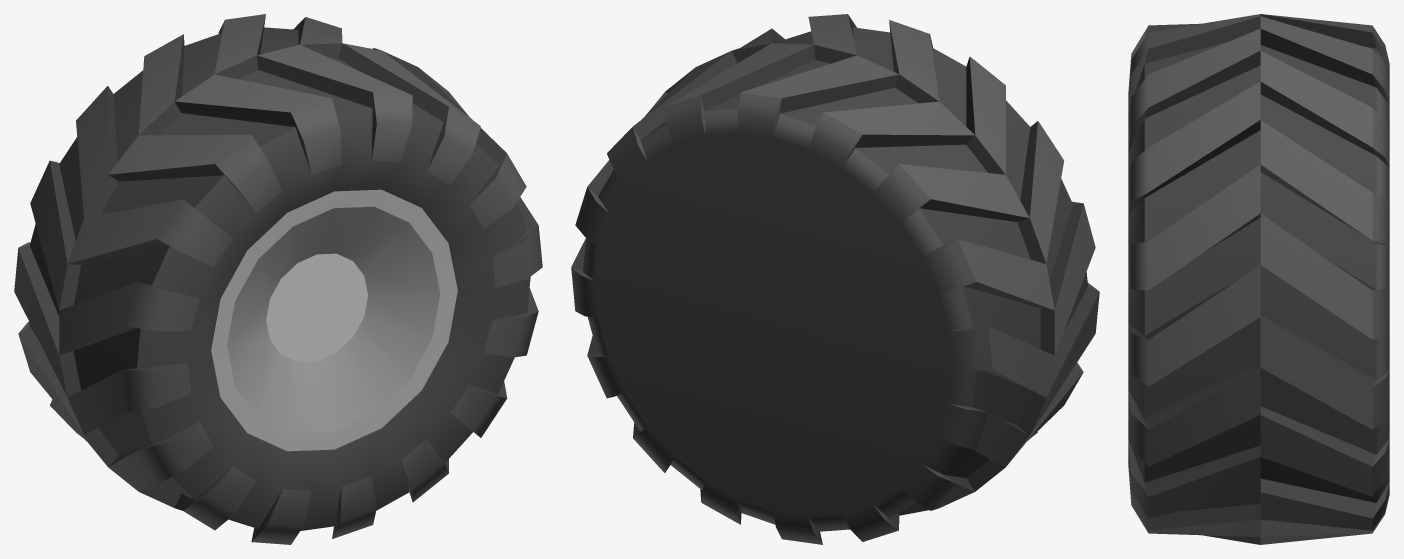
File: wheel_04.fbx
3 views of the same model, side by side, from view 1: azimuth 30°, elevation 25°; view 2: azimuth 150°, elevation 25°; view 3: azimuth 270°, elevation 25° (orthographic). The views are drawn at different scales.
Parts seen in each view (by area): view 1: wheel_04; view 2: wheel_04; view 3: wheel_04.
Boxes of the visible parts, left/top/right/bottom form: wheel_04: left=14, top=14, right=542, bottom=544; wheel_04: left=571, top=14, right=1099, bottom=544; wheel_04: left=1128, top=14, right=1389, bottom=544.
Size of the model in its own units: 114 by 114 by 56.41.
